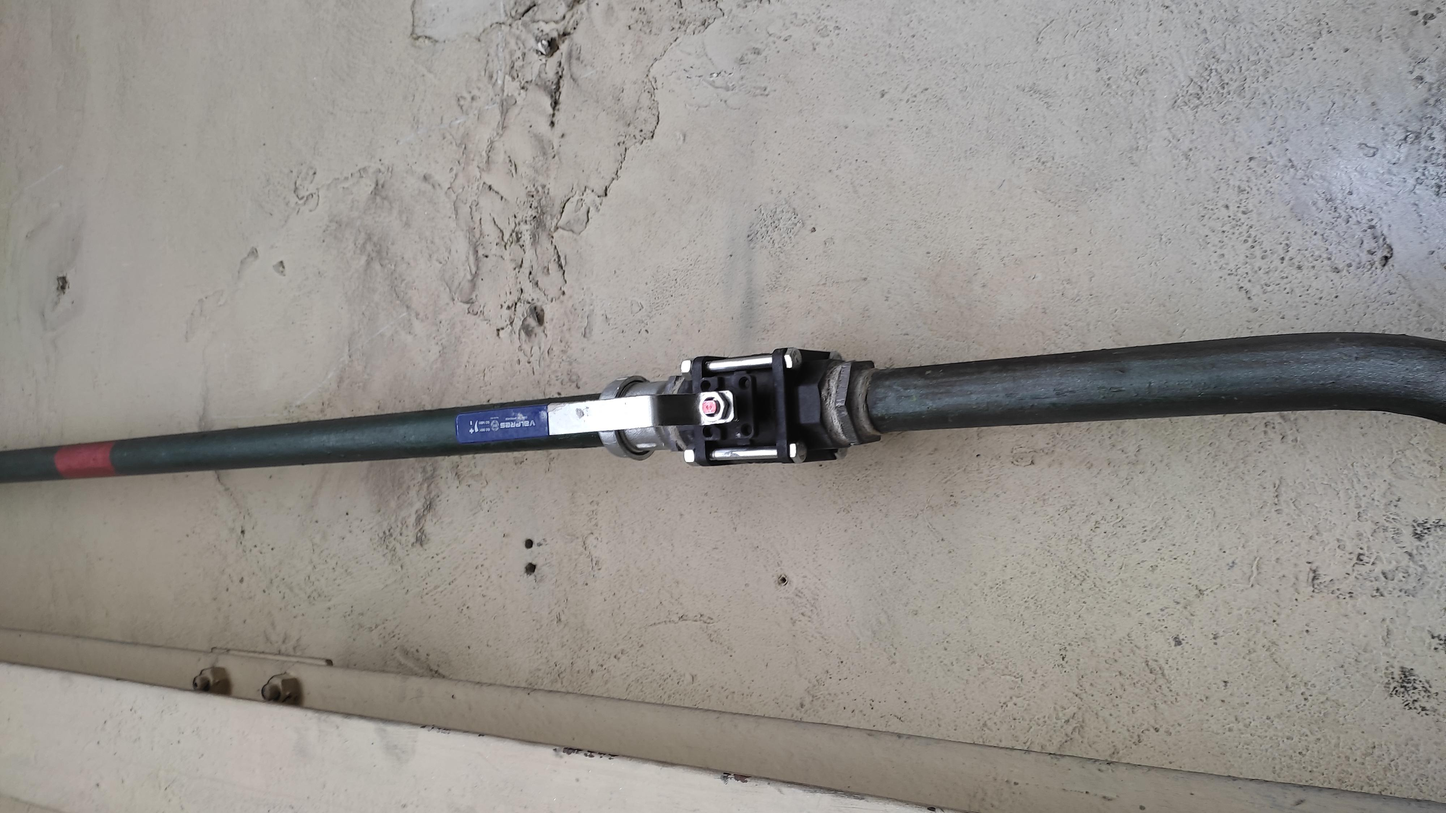opened valve: (443, 344, 859, 473)
